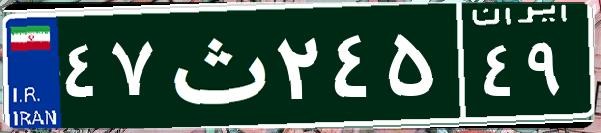2: (273, 28, 330, 110)
4: (330, 28, 385, 110), (57, 26, 110, 107), (475, 38, 525, 113)
5: (385, 28, 445, 110)
7: (110, 28, 158, 105)
9: (525, 38, 570, 115)
ث: (158, 15, 273, 115)
